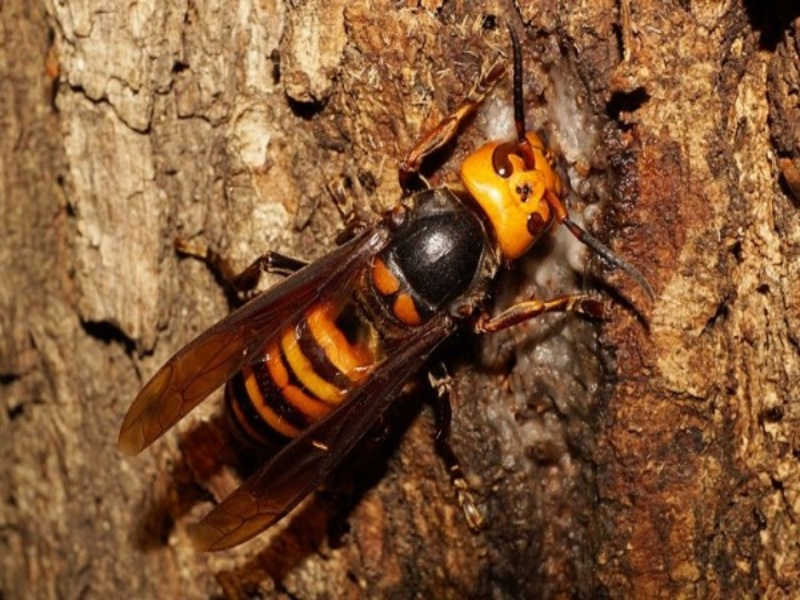asian_giant_hornet: (141, 26, 664, 560)
